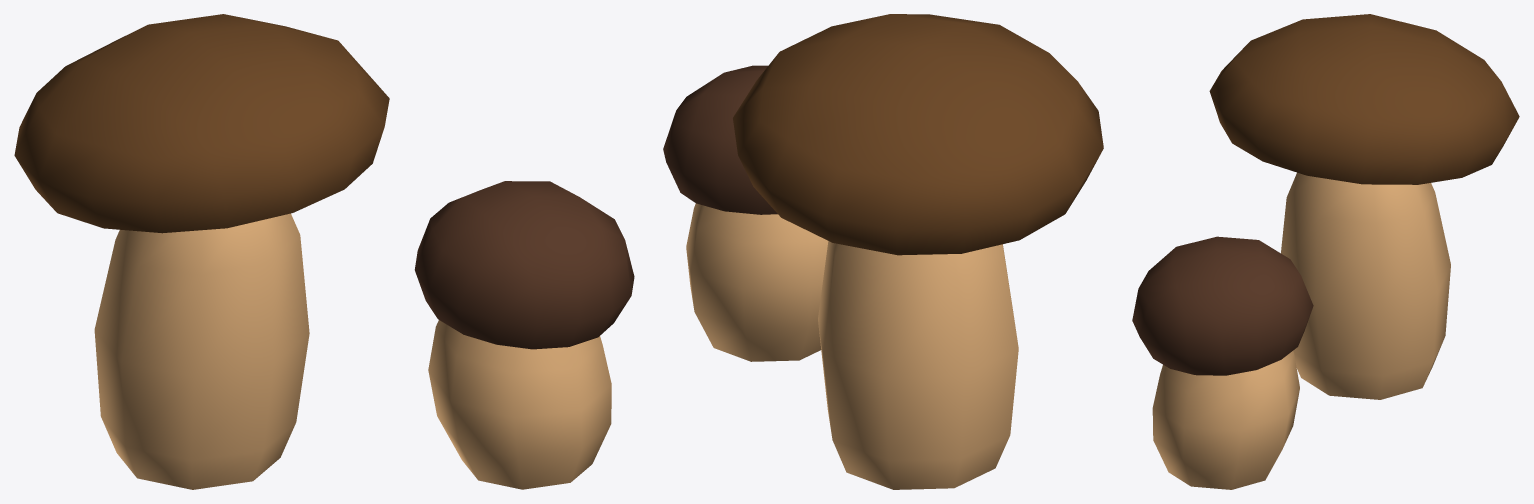
File: Bay_Bolete_Group_1.fbx
3 renders of one model, left to right at view 1: azimuth 30°, elevation 25°; view 2: azimuth 150°, elevation 25°; view 3: azimuth 270°, elevation 25°, orthographic. The views are drawn at different scales.
Parts seen in each view (by area): view 1: Bay_Bolete_Group_1; view 2: Bay_Bolete_Group_1; view 3: Bay_Bolete_Group_1.
Part boxes in pixels (x1,y1,x2,y2): Bay_Bolete_Group_1: (14, 14, 634, 489); Bay_Bolete_Group_1: (663, 14, 1103, 489); Bay_Bolete_Group_1: (1132, 14, 1519, 489).
Size of the model in its own units: 37.44 by 30.35 by 30.92.
Materials: 1 (1 with a texture image).
